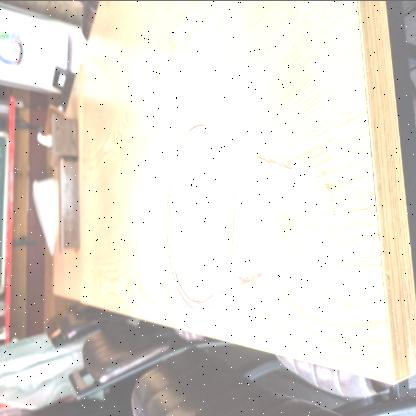Others: (159, 118, 337, 318)
